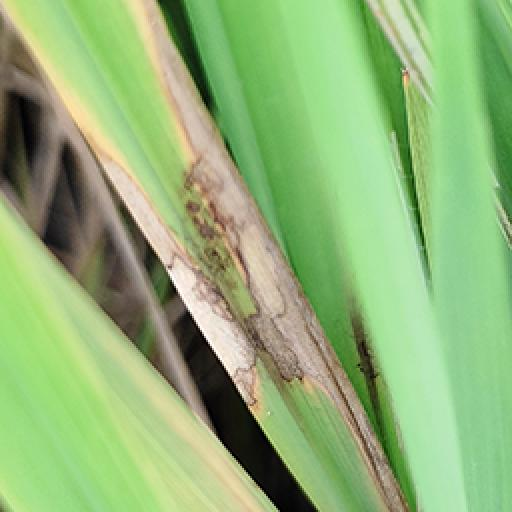Leaf Blast Disease: (52, 12, 398, 508)
